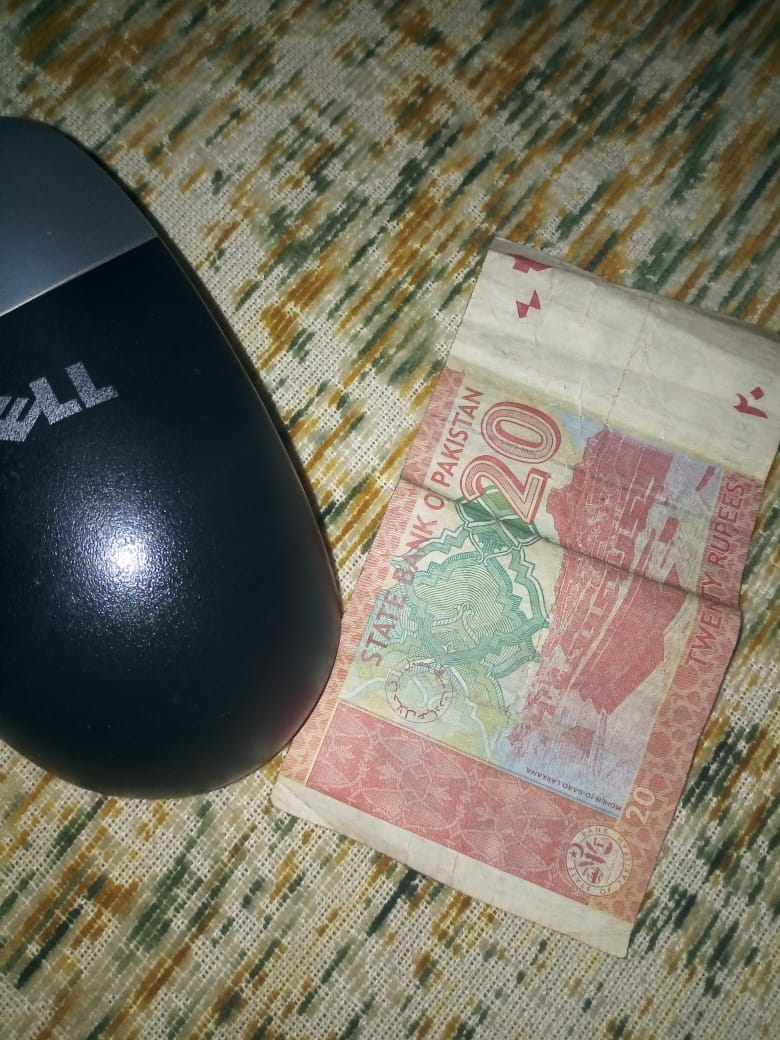20 rupee: (268, 243, 780, 940)
